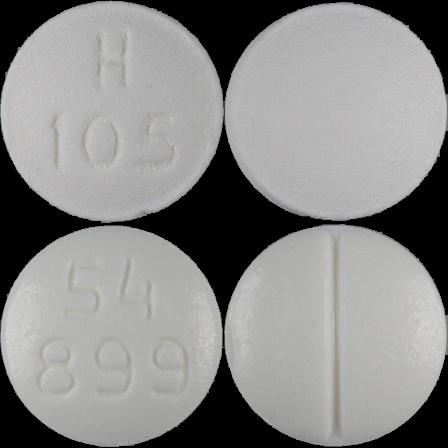10544-091: (0, 0, 224, 224)
